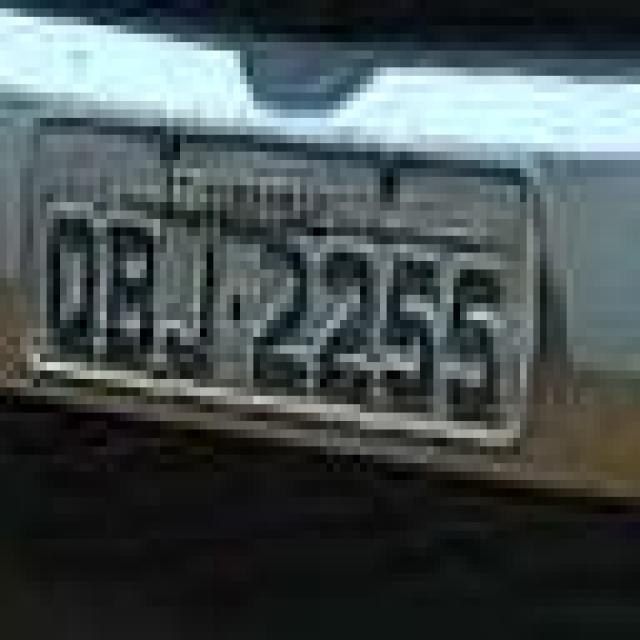5: (376, 249, 436, 413), (446, 254, 502, 425)
B: (106, 214, 157, 366)
J: (167, 216, 224, 396)
Q: (46, 206, 98, 356)
